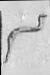I10: (4, 0, 46, 74)
